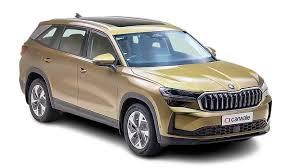skoda: (226, 84, 236, 90)
